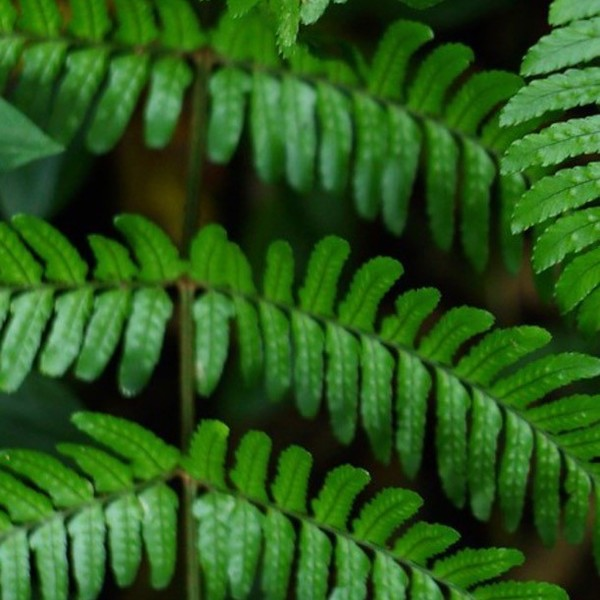obstacle: (27, 215, 589, 526), (23, 403, 474, 593), (38, 13, 455, 203), (485, 20, 587, 305)
